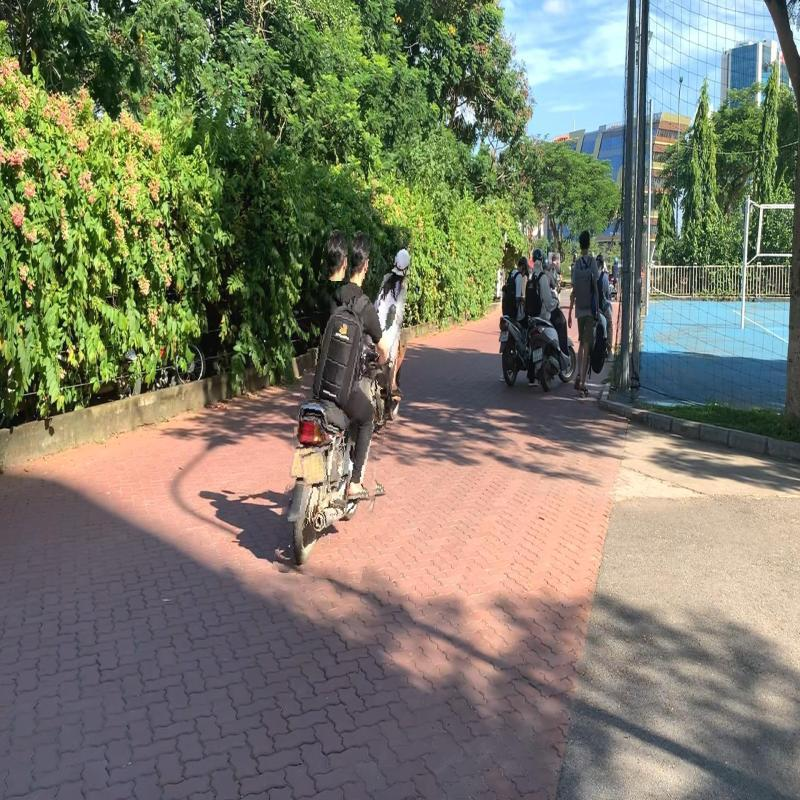licenseplate: (300, 451, 330, 488)
motorcyclist: (286, 217, 404, 582)
nohelmet: (322, 227, 353, 282)
